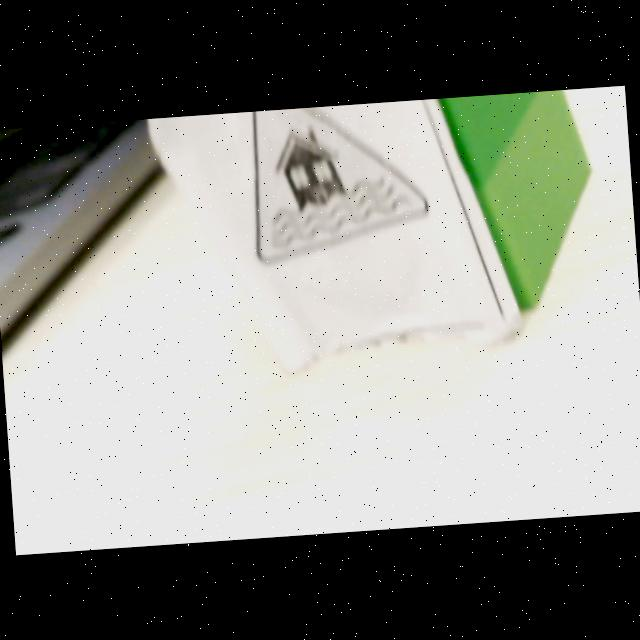Tsunami: (256, 107, 428, 260)
